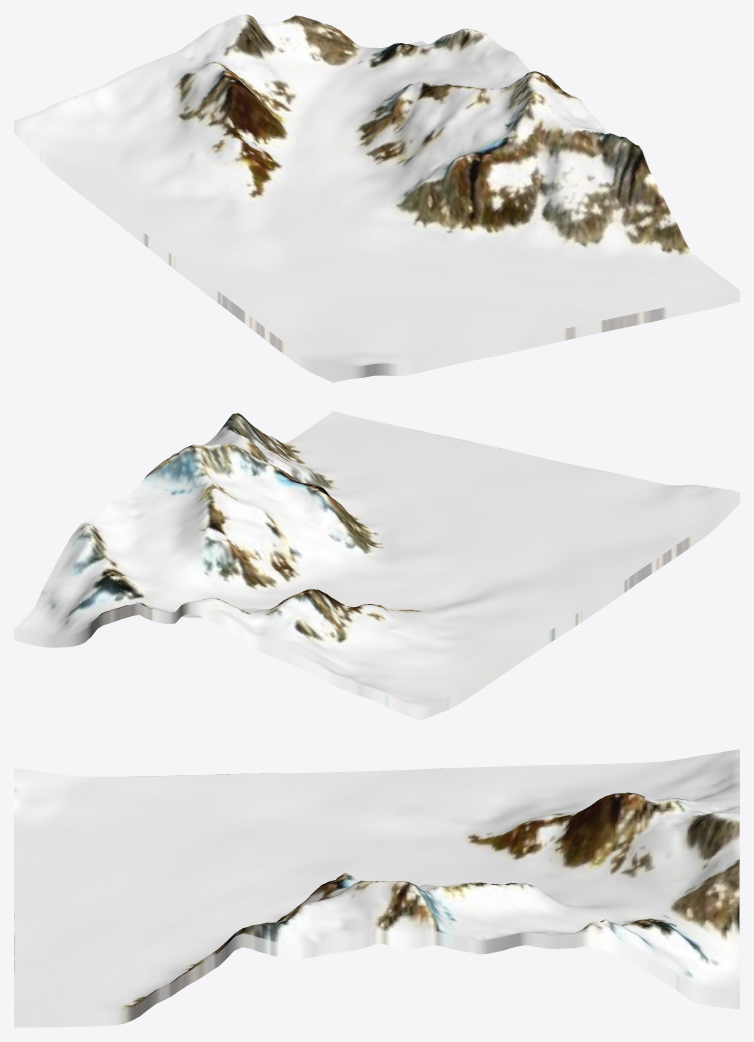
3 views of the same model, one above another, from view 1: azimuth 30°, elevation 25°; view 2: azimuth 150°, elevation 25°; view 3: azimuth 270°, elevation 25° (orthographic). The views are drawn at different scales.
Visible parts, largest first — view 1: tile; view 2: tile; view 3: tile.
Part boxes in pixels (x1,y1,x2,y2): tile: (14,14,739,382); tile: (14,411,739,720); tile: (14,749,739,1027).
Bounding box in the file's own units: 4050 × 1058 × 5505.
Materials: 1 (1 with a texture image).
